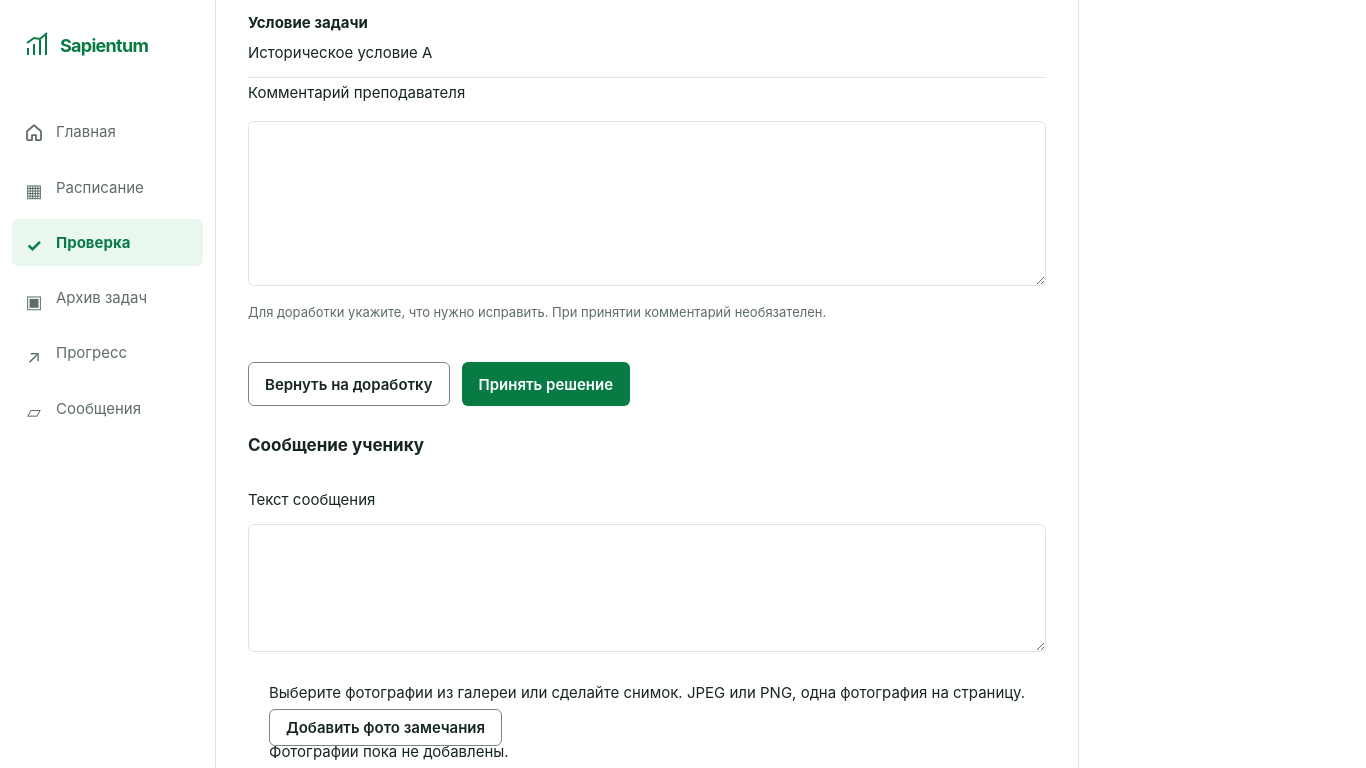
Test case: J1 command invariants › sends exact accept payload, waits for authoritative GET and removes review actions
This screenshot has width=1366, height=768.
(page scrolled)
Click the button "Принять решение": x=546, y=384 left=462, top=362, right=630, bottom=406
(page scrolled)
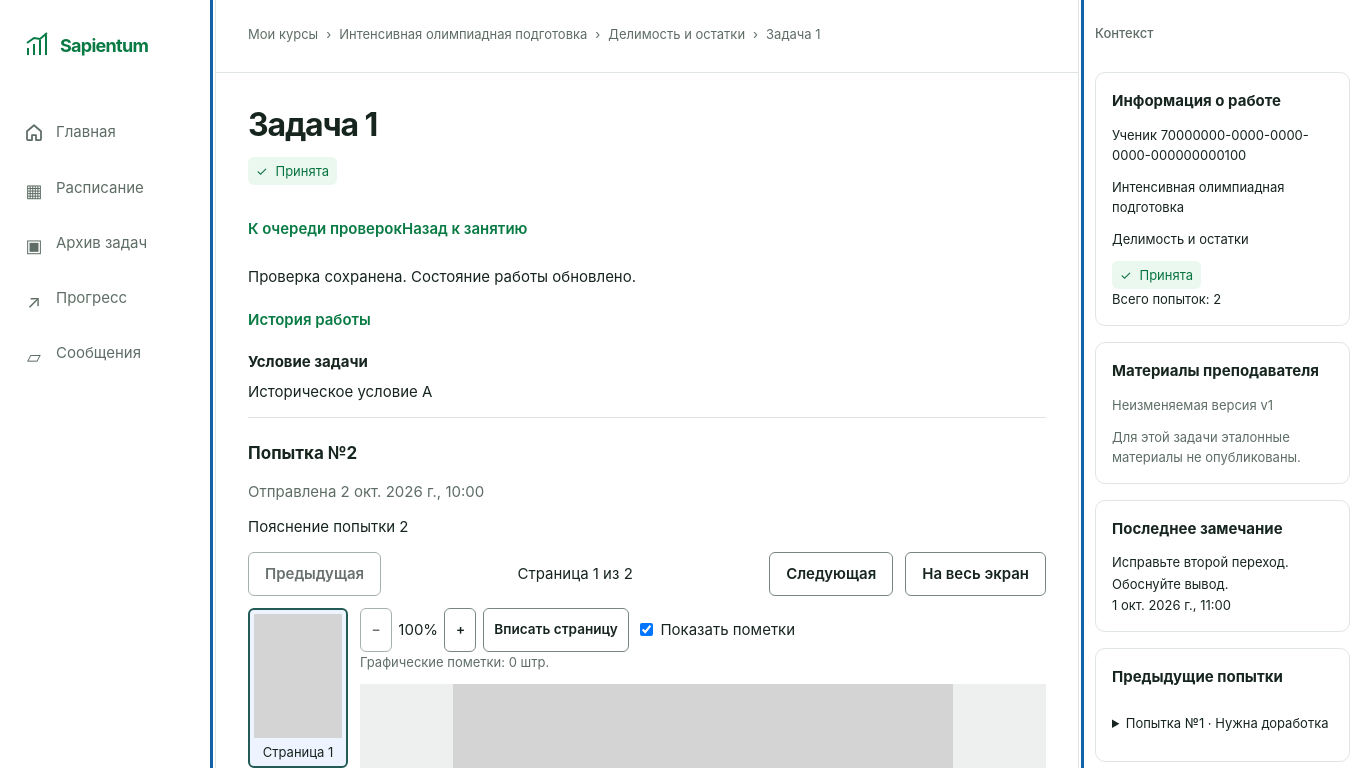
Result: the text "Проверка сохранена. Состояние работы обновлено." is shown at left=248, top=267, right=636, bottom=286
Result: the button "Принять решение" is gone
